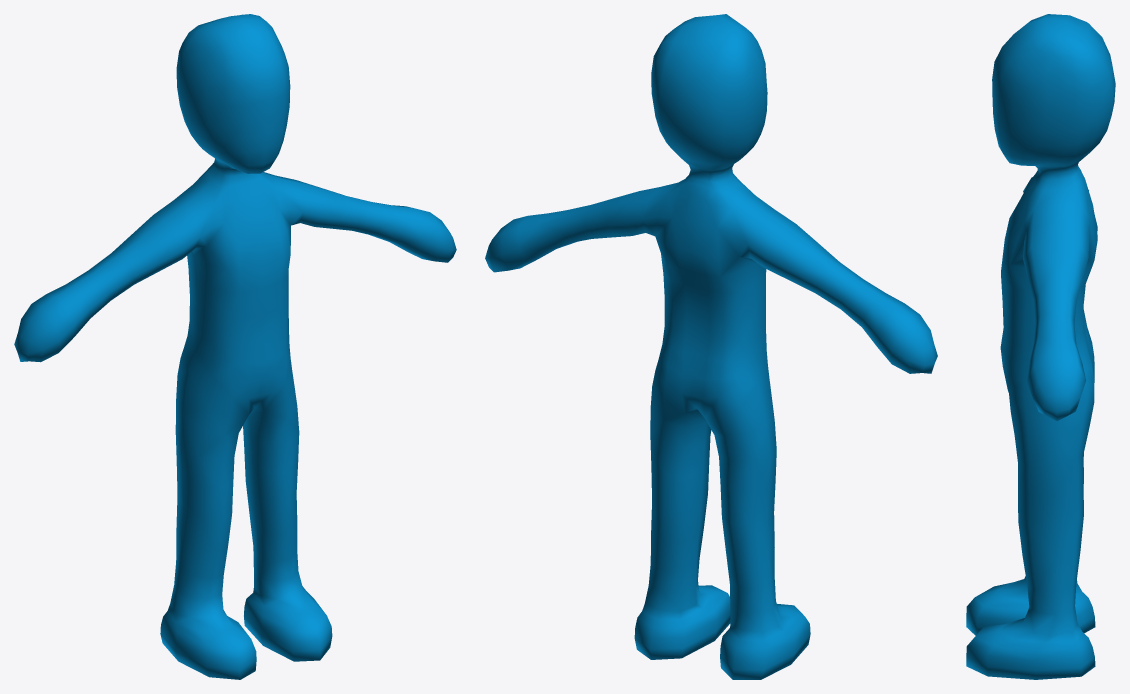
Rendered from smurfA.fbx.
The picture shows the model from 3 angles, left to right: view 1: azimuth 30°, elevation 25°; view 2: azimuth 150°, elevation 25°; view 3: azimuth 270°, elevation 25°; orthographic projection. The views are drawn at different scales.
Visible parts, largest first — view 1: Bob; view 2: Bob; view 3: Bob.
Boxes of the visible parts, x1,y1,x2,y2 form: Bob: [14, 14, 456, 679]; Bob: [485, 14, 937, 679]; Bob: [966, 14, 1115, 679].
Size of the model in its own units: 791 by 1078 by 232.
